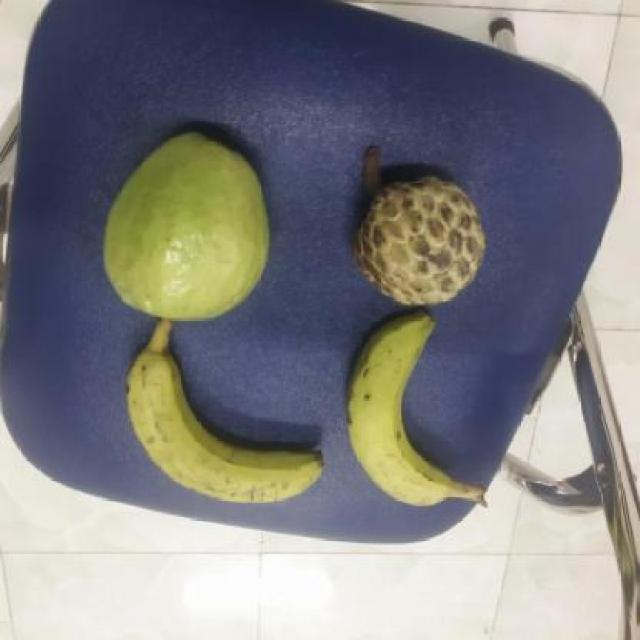banana: (123, 338, 326, 512), (342, 313, 464, 512)
guava: (98, 127, 274, 331)
sugar apple: (350, 174, 488, 312)
